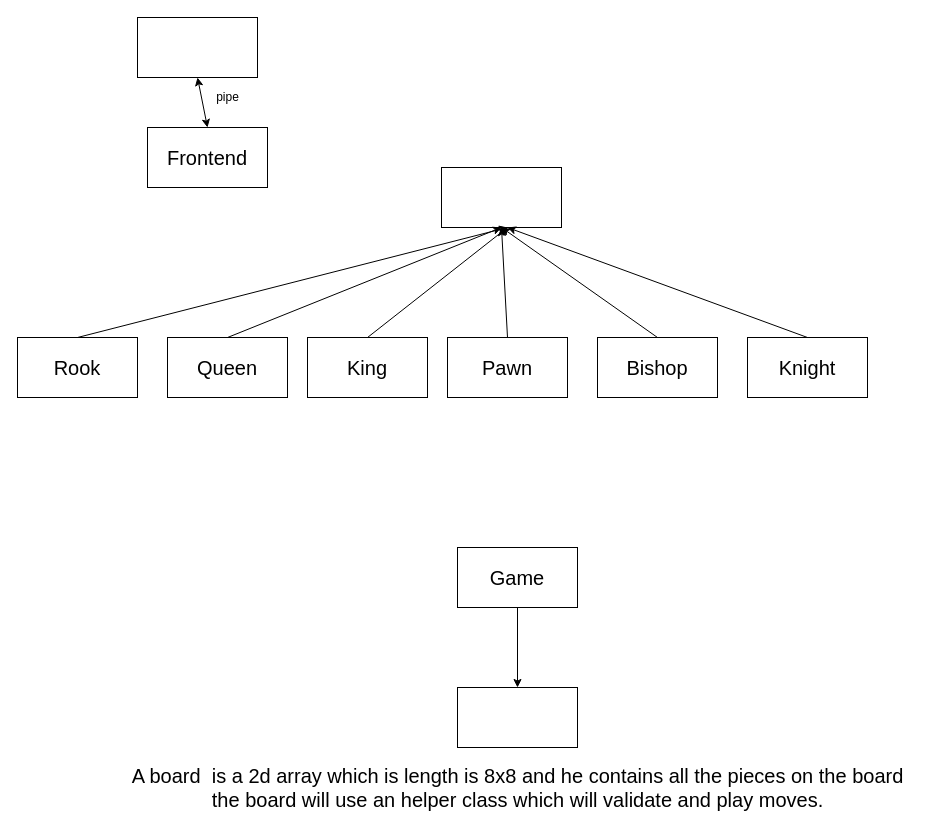
Image size: 930x829. Some labels were removed from this diagram. The centre of each missing label's shape, as x and y in pixels:
"Backend" goes at [197,47].
"Board" goes at [517,717].
"Piece" goes at [501,197].
